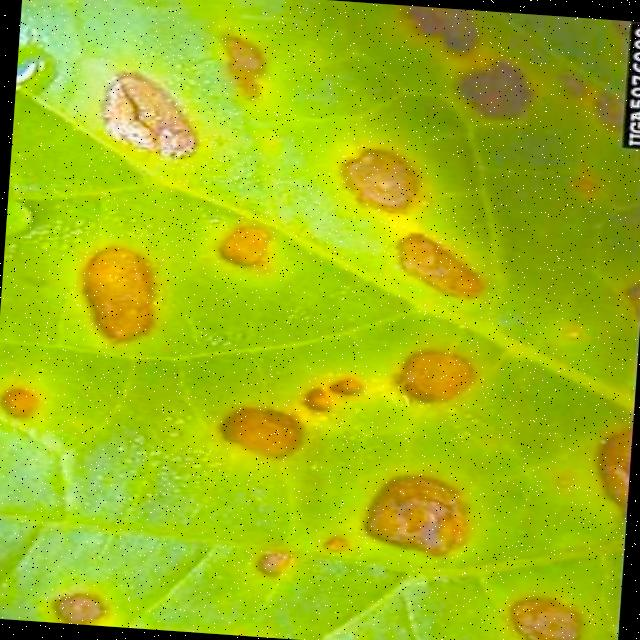Bacterial: (61, 26, 564, 605)
